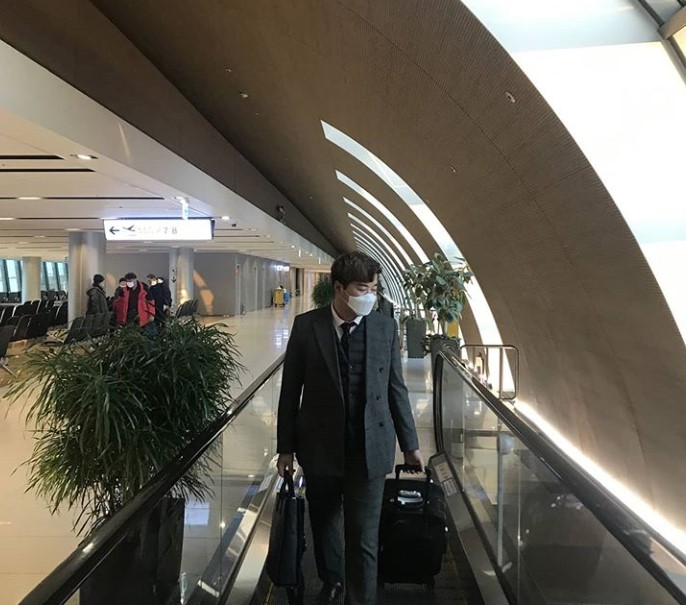face_with_mask: (325, 252, 382, 319)
